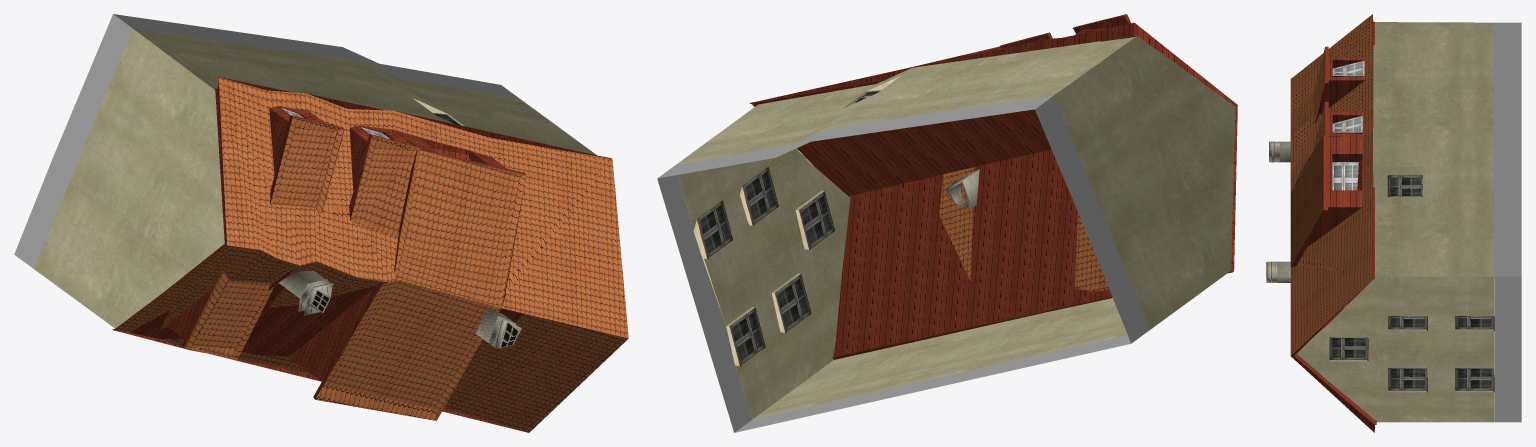
File: Myyrivahe27-origo.obj
3 renders of one model, left to right at view 1: azimuth 30°, elevation 25°; view 2: azimuth 150°, elevation 25°; view 3: azimuth 270°, elevation 25°, orthographic. The views are drawn at different scales.
Visible parts, largest first — view 1: Line008, Line001, ____tube002, ____tube003; view 2: Line001, Line008, ____tube003; view 3: Line001, Line008, ____tube003, ____tube002.
Part boxes in pixels (bbox=[...]): Line008: bbox=[112, 77, 628, 432]; Line001: bbox=[14, 14, 596, 328]; ____tube002: bbox=[279, 270, 332, 315]; ____tube003: bbox=[475, 308, 521, 348]; Line001: bbox=[657, 36, 1235, 432]; Line008: bbox=[750, 14, 1237, 359]; ____tube003: bbox=[945, 169, 979, 207]; Line001: bbox=[1296, 22, 1521, 422]; Line008: bbox=[1290, 14, 1376, 432]; ____tube003: bbox=[1266, 261, 1290, 282]; ____tube002: bbox=[1269, 141, 1290, 162].
Bounding box in the file's own units: 20.44 × 17 × 12.68.
